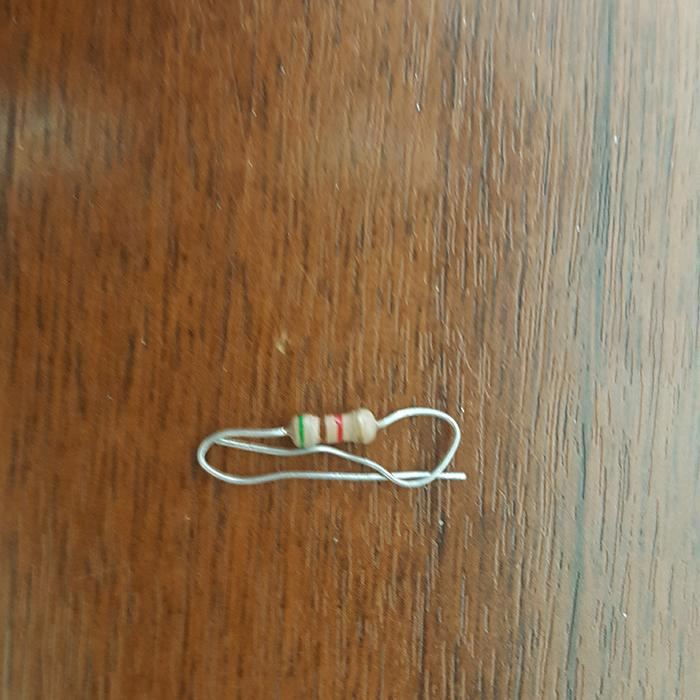resistor: (285, 407, 379, 448)
